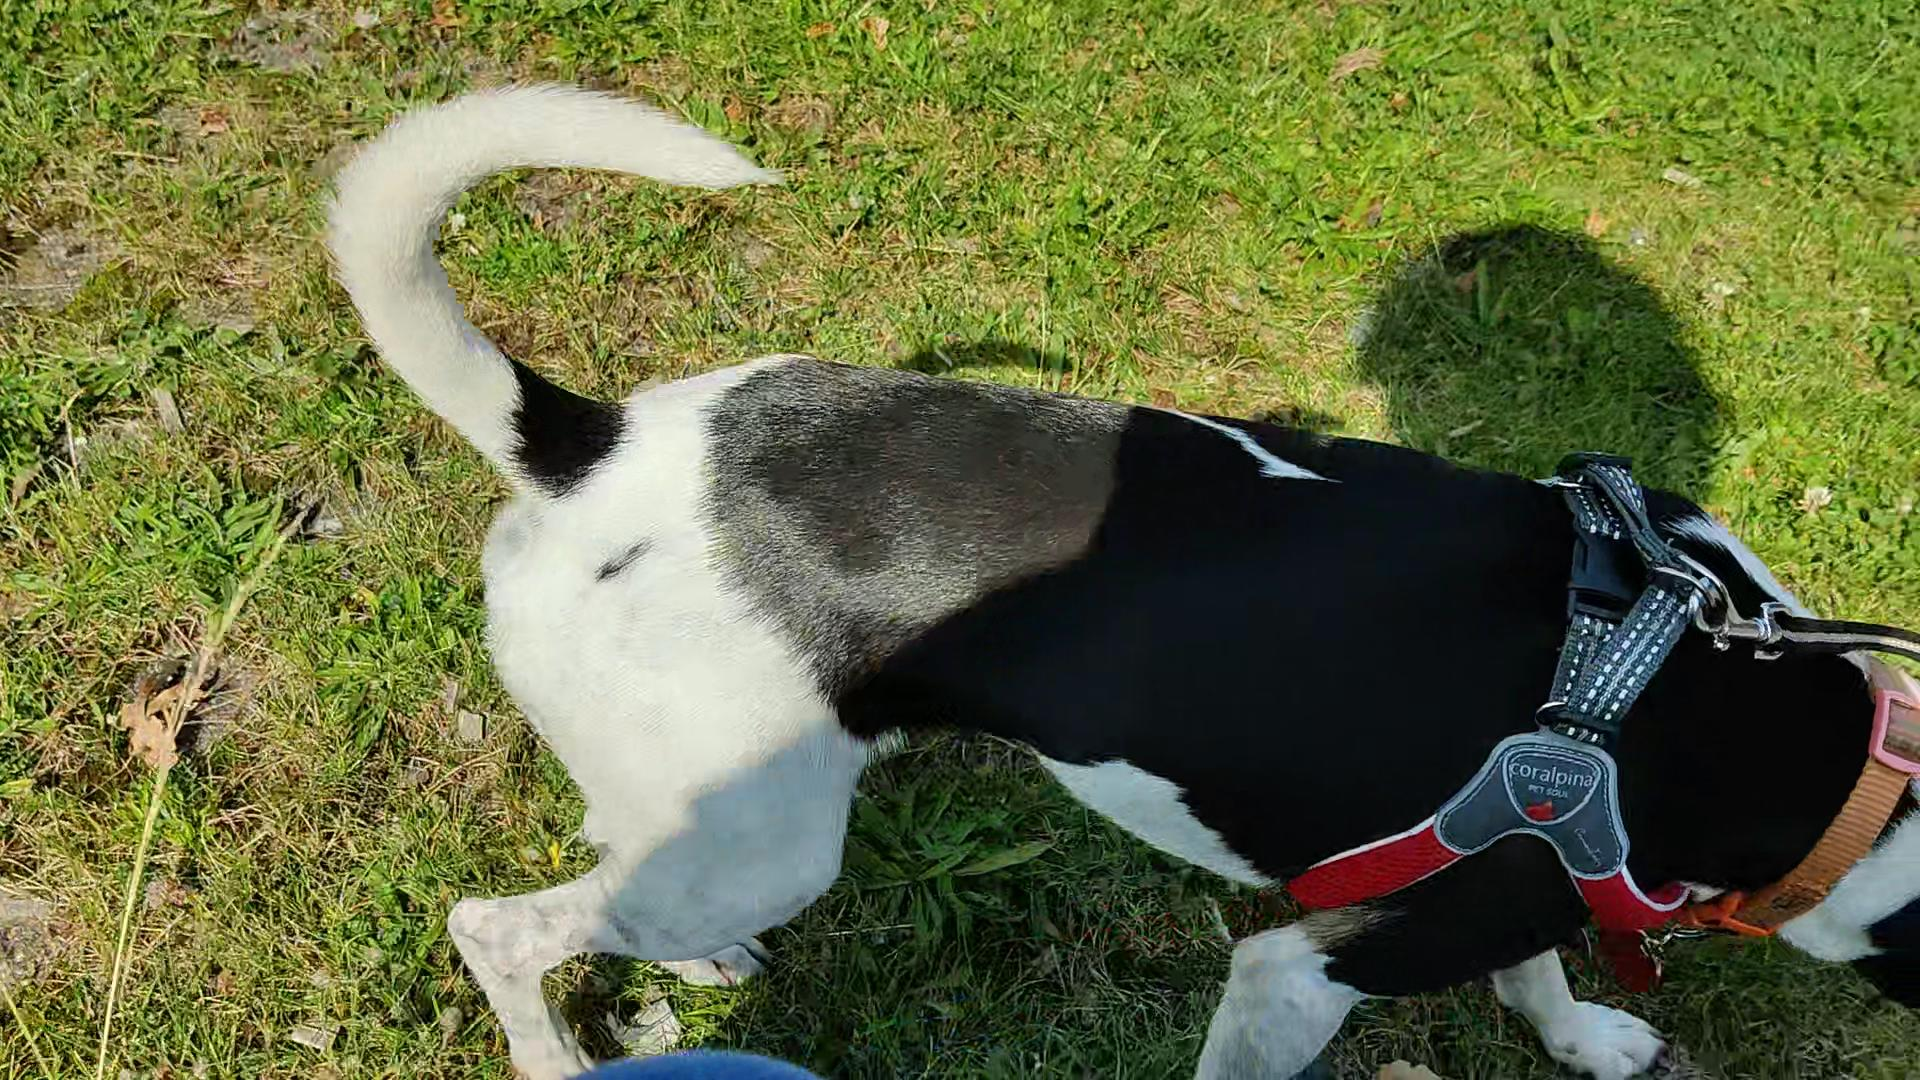Dog: (316, 70, 1919, 1079)
